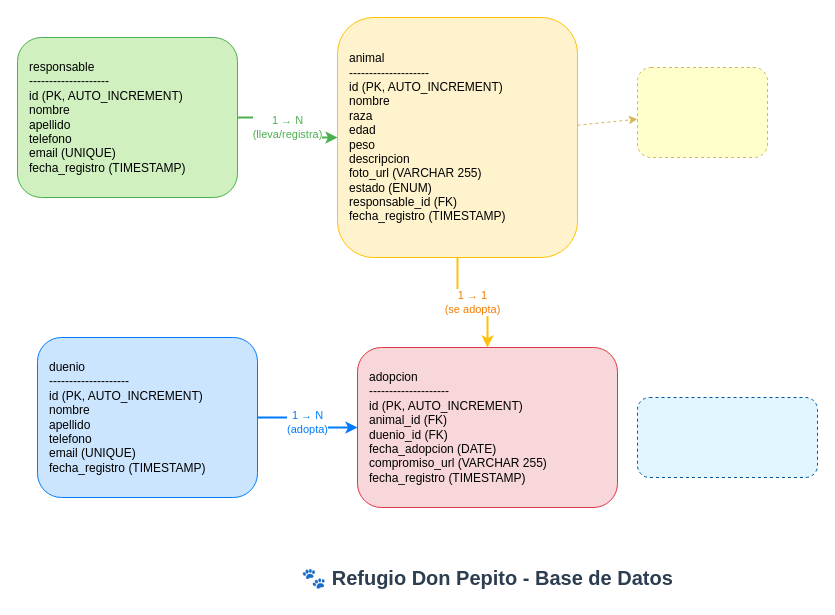
The diagram is 835 pixels wide and 615 high, and some of its shapes have lost their labels. The shapes that lost their labels are listed below. From the top down, each one's centre as x and y in pixels, then its label:
At (x=702, y=112): "estado: 'disponible' 'adoptado' 'en_proceso'".
At (x=727, y=437): "📁 Archivos en: /uploads/animales/ /uploads/documentos/".
